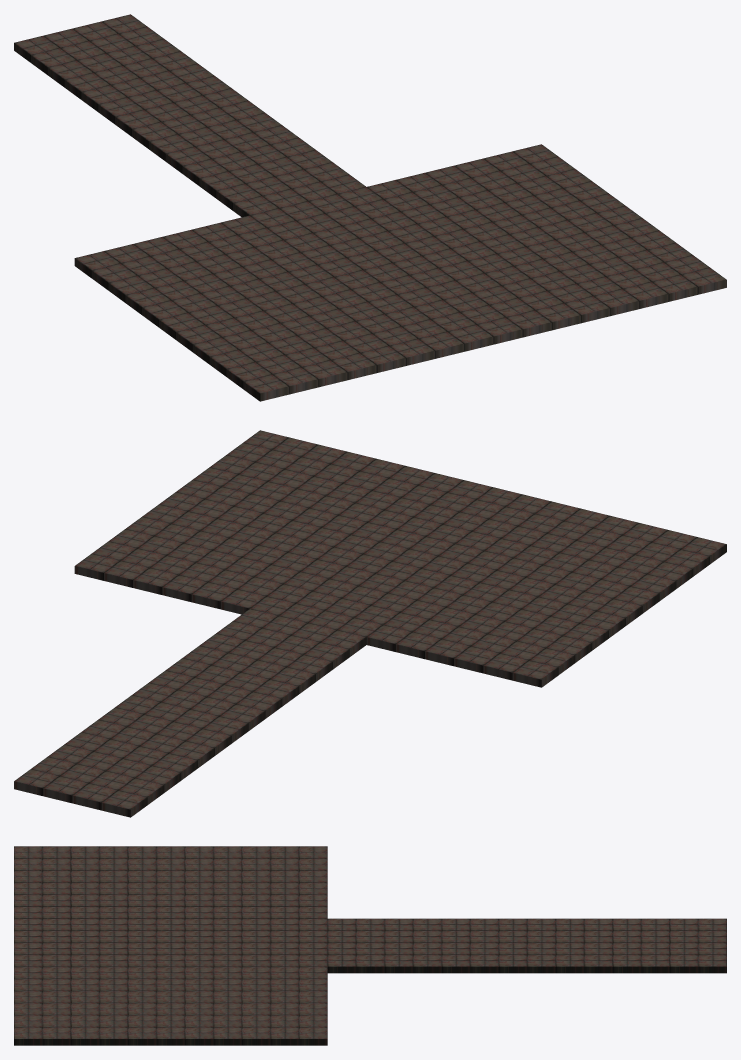
File: TermProject_END_floor.fbx
3 views of the same model, one above another, from view 1: azimuth 30°, elevation 25°; view 2: azimuth 150°, elevation 25°; view 3: azimuth 270°, elevation 25° (orthographic). The views are drawn at different scales.
Visible parts, largest first — view 1: Floor.4249; view 2: Floor.4249; view 3: Floor.4249.
Part boxes in pixels (x1,y1,x2,y2): Floor.4249: [14, 14, 726, 401]; Floor.4249: [14, 430, 726, 817]; Floor.4249: [14, 846, 726, 1045].
Bounding box in the file's own units: 6401 × 103 × 10000.
